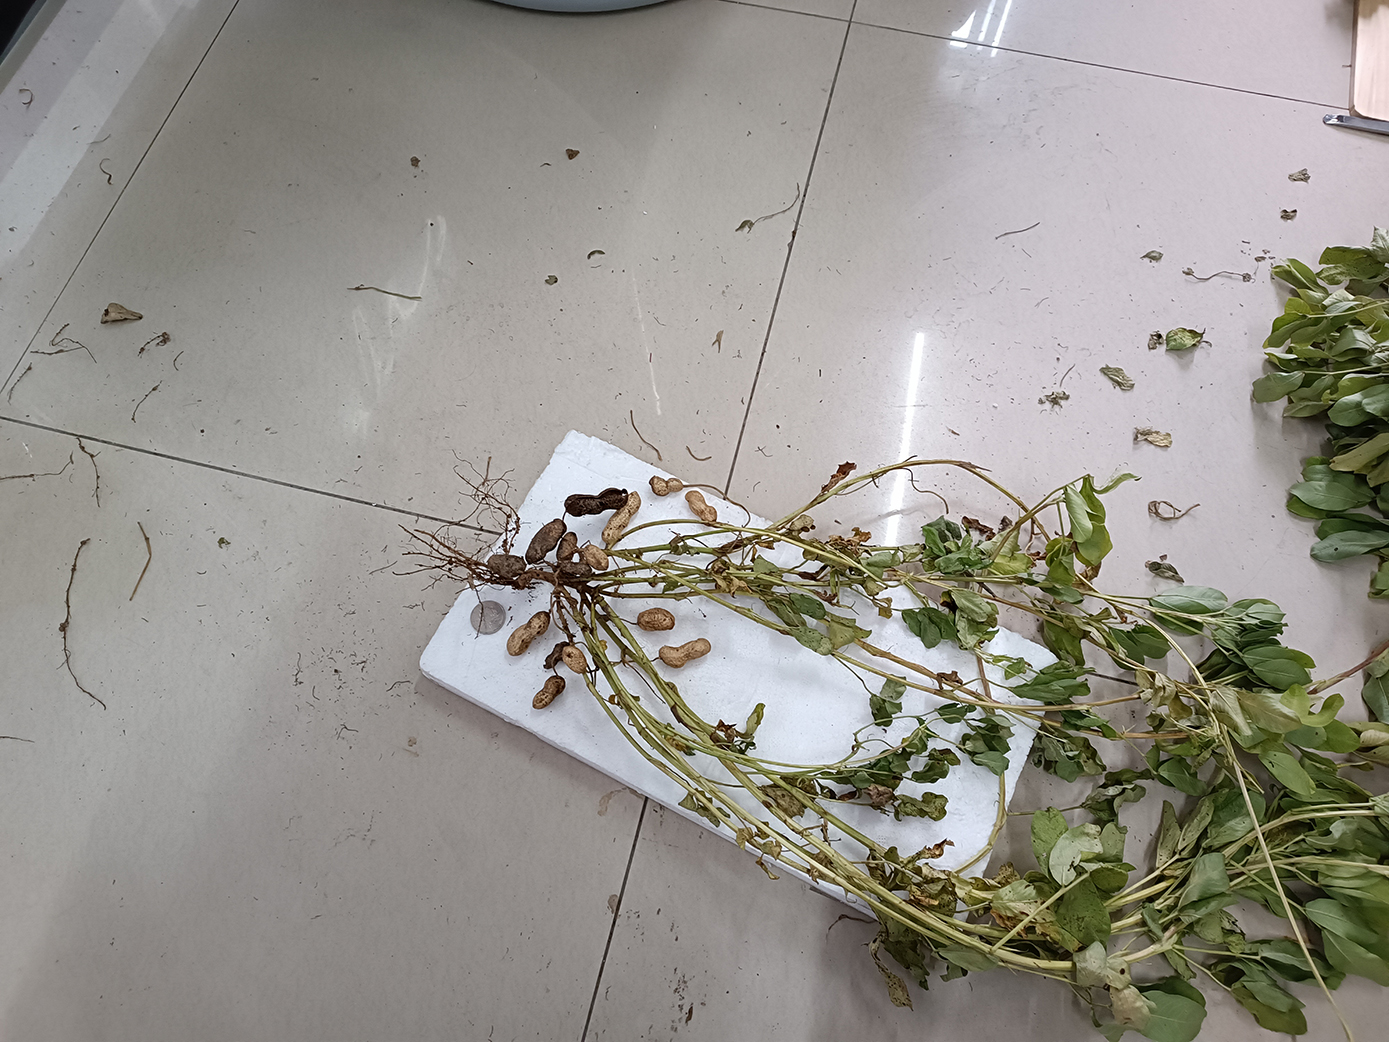h: (602, 491, 643, 542), (507, 610, 549, 657), (658, 638, 711, 668), (686, 490, 717, 525), (638, 607, 675, 630), (562, 646, 587, 672), (584, 542, 609, 569), (649, 476, 683, 495)
l: (524, 518, 565, 564), (565, 487, 627, 516), (532, 674, 565, 709), (489, 554, 526, 575), (556, 531, 579, 561), (545, 642, 570, 670), (559, 561, 593, 578)
